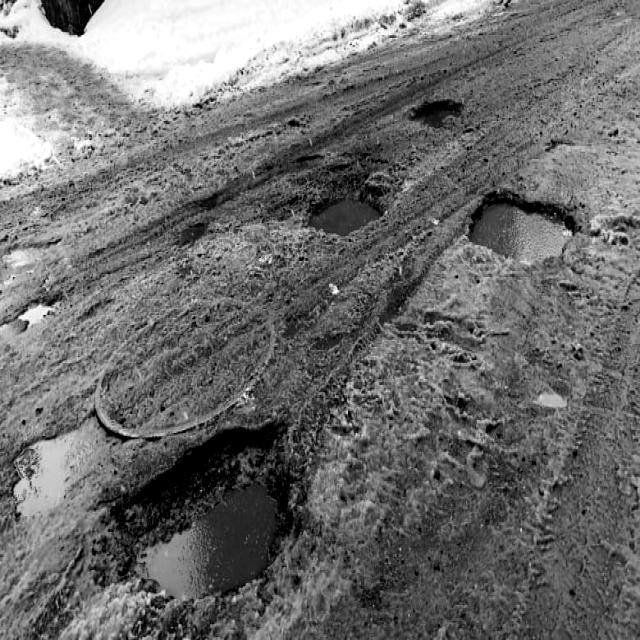pathole: (120, 438, 316, 609), (456, 156, 603, 322), (14, 368, 122, 572), (280, 177, 403, 270), (6, 259, 70, 363), (395, 86, 470, 142)
